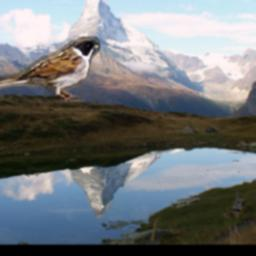Sparrow: (0, 37, 100, 103)
